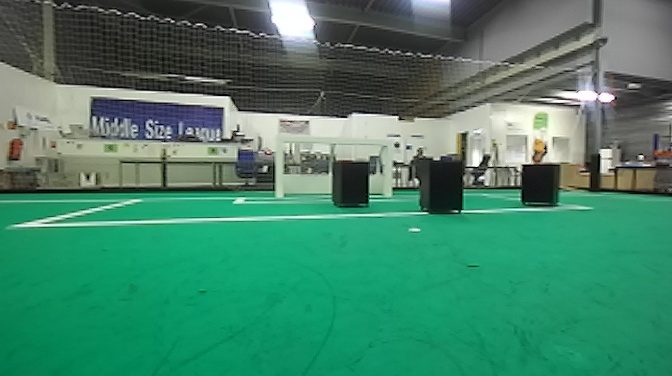goalpost: (272, 135, 288, 201), (382, 144, 397, 211)
